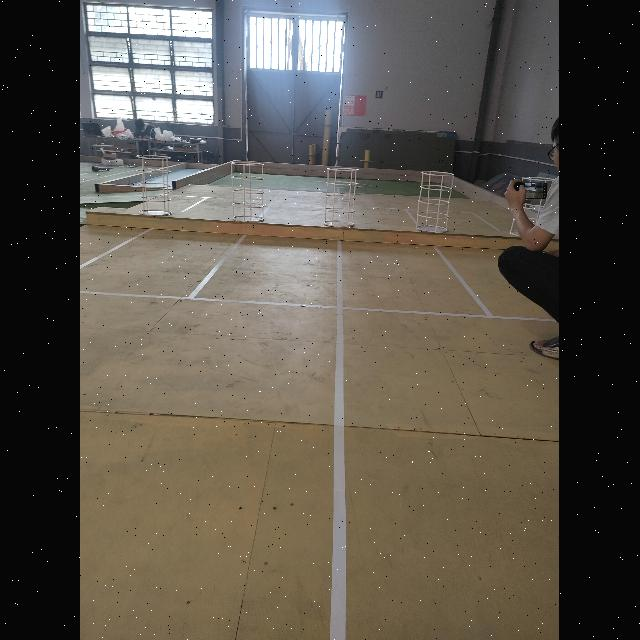S: (416, 170, 455, 234), (136, 154, 173, 217), (323, 167, 360, 228), (230, 161, 266, 223)
